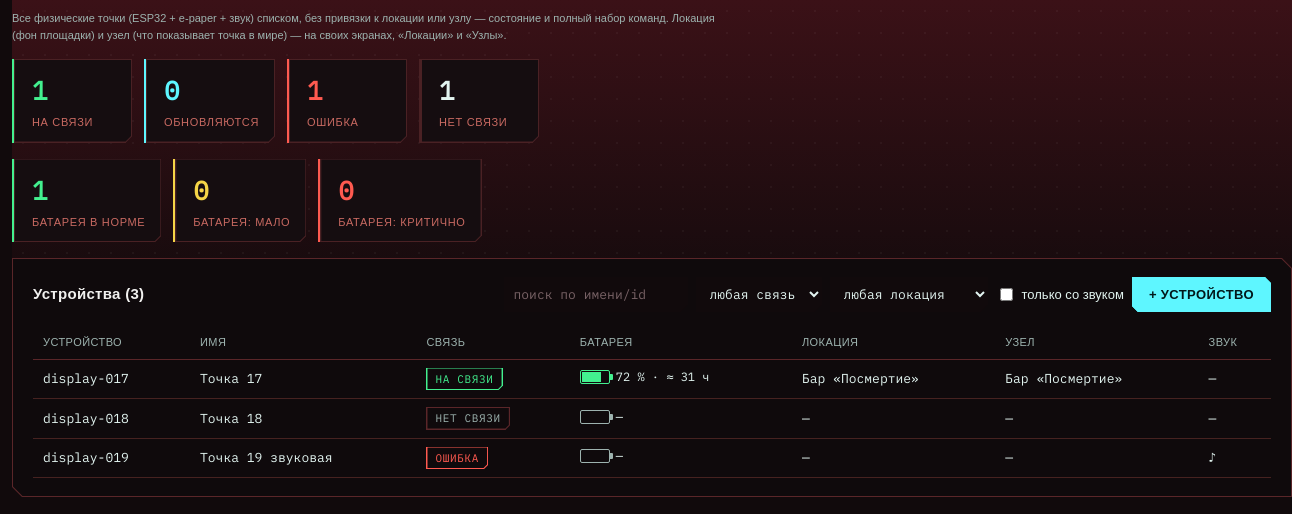
Scenario: DevicesScreen › только со звуком — сужает до звуковых точек
This screenshot has width=1292, height=514.
Check: the text "display-017" is shown, box [43, 370, 129, 387]
Step 1. Click the checkbox labelled "только со звуком" → (1006, 294), box [1000, 288, 1012, 301]
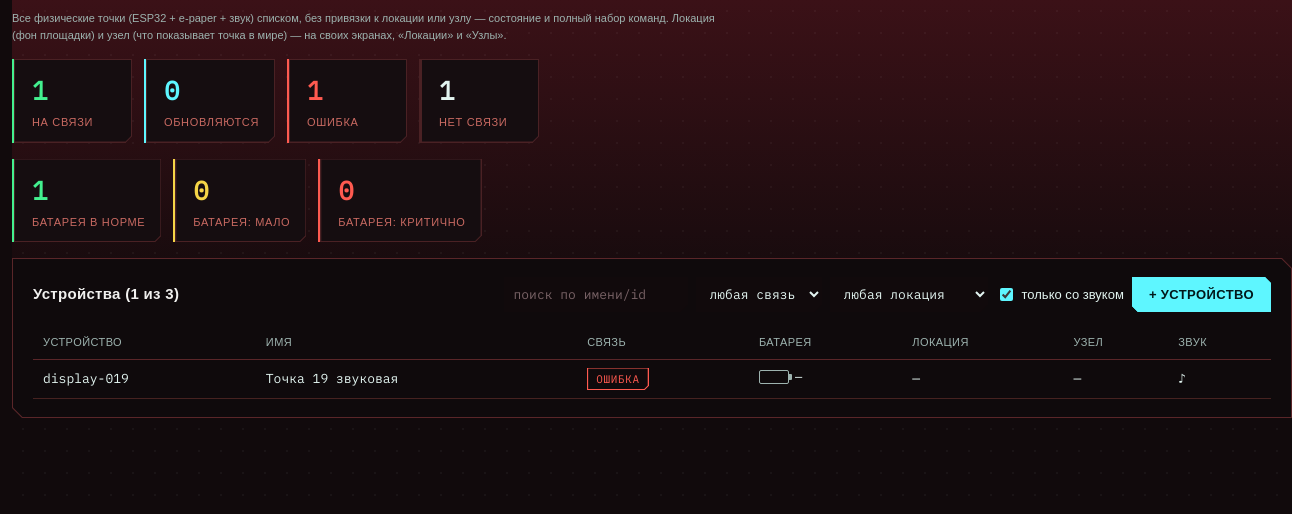
Check: the text "display-019" is shown, box [43, 370, 129, 387]
Check: the text "display-017" is gone
Check: the text "display-018" is gone
